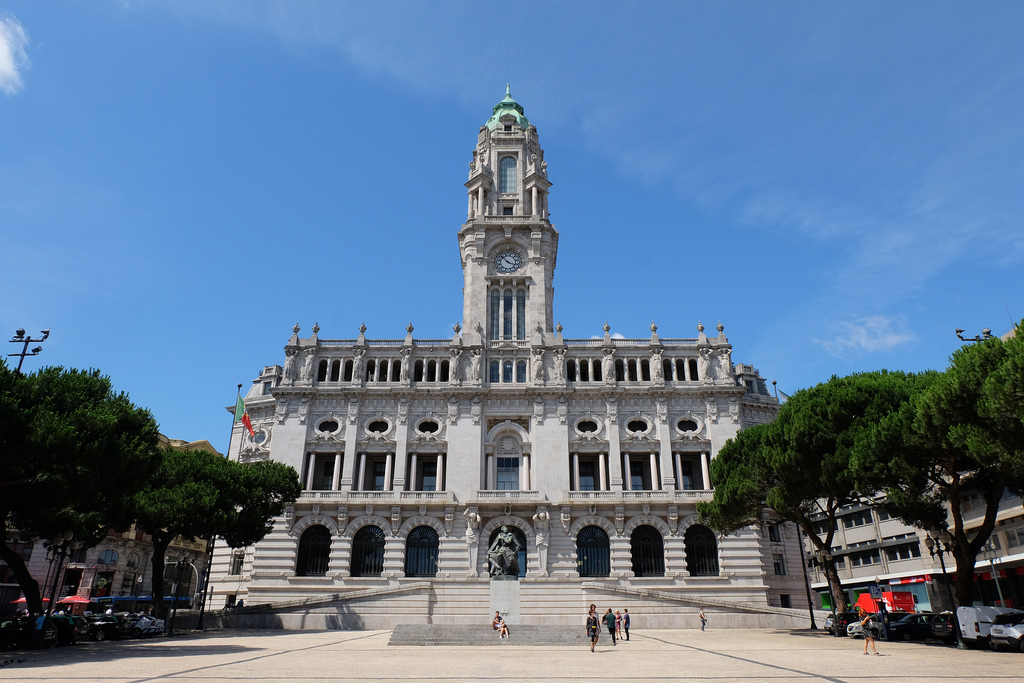camara: (199, 82, 819, 615)
